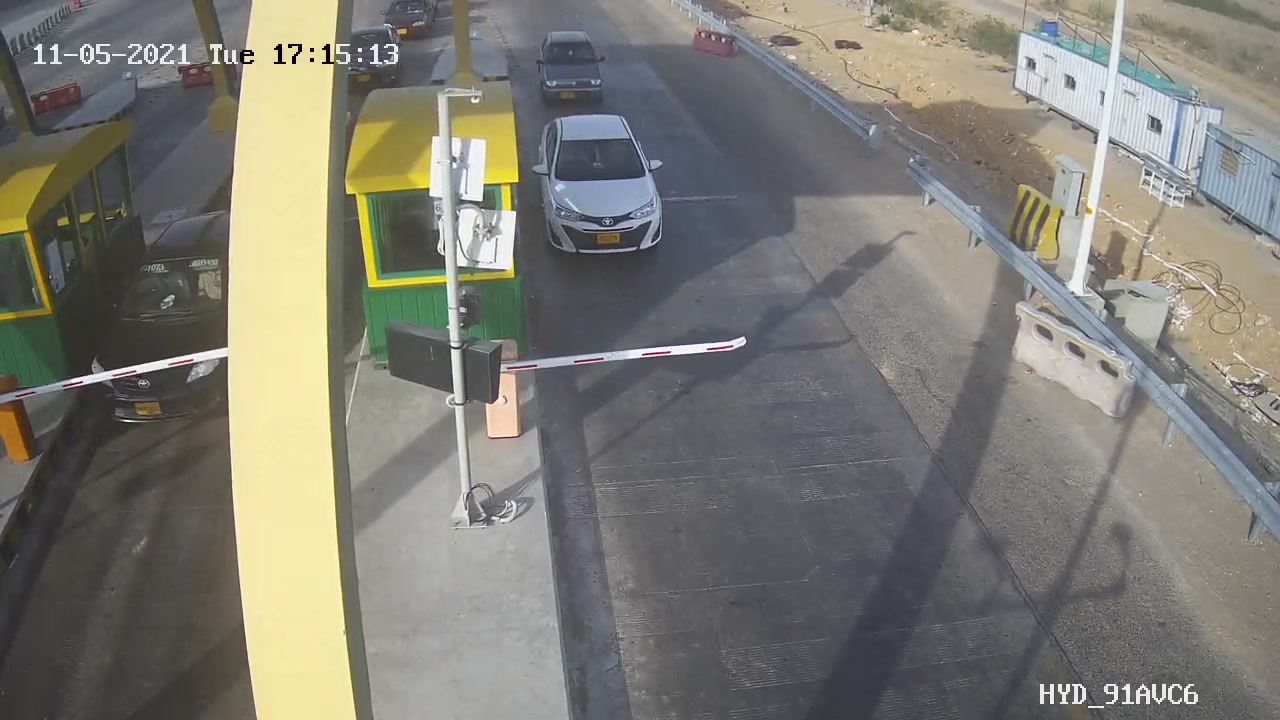F1: (517, 105, 682, 275), (524, 22, 624, 112)
